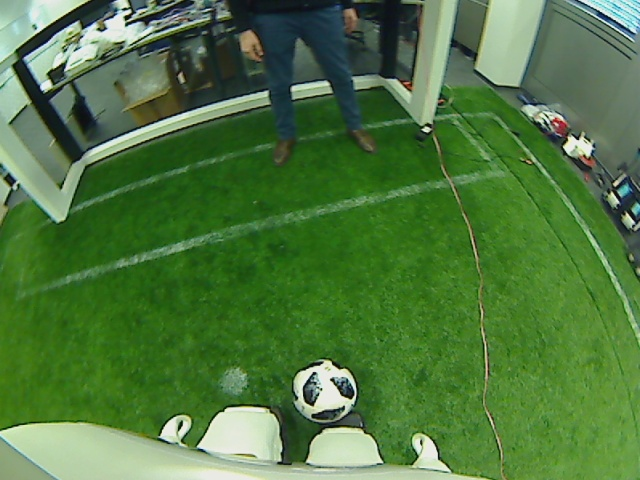ball: (288, 357, 361, 423)
